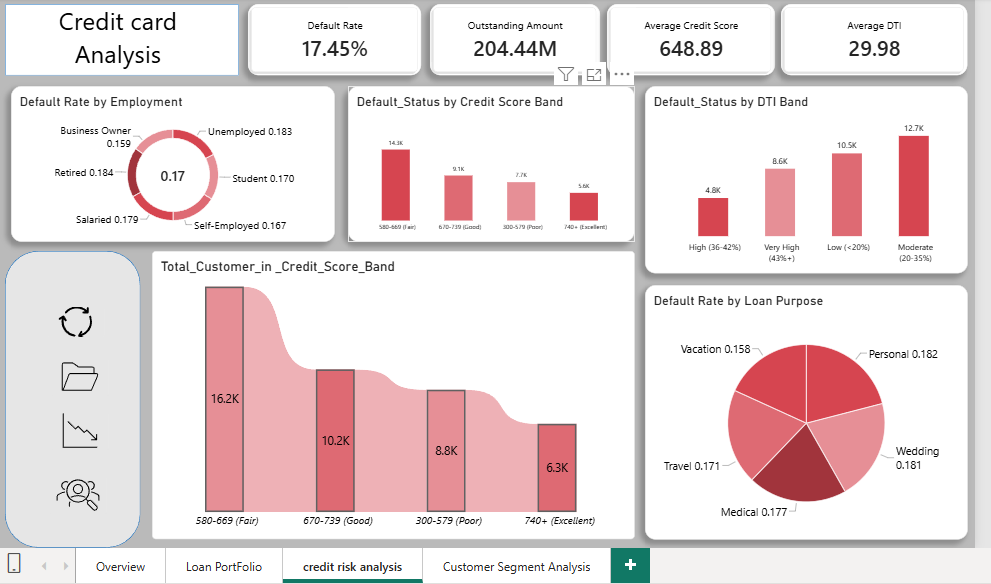

The page's visual inventory and layout, read from the dashboard file:
{"tool":"powerbi","page":{"name":"credit risk analysis","canvas":[1920,1080],"ordinal":2},"visuals":[{"type":"cardVisual","fields":{"Data":["Fact_Loans.Default Rate"]},"box":[493.3,12.8,340.2,140.3],"z":0},{"type":"shape","box":[14.9,497.4,265.8,582.6],"z":0,"group":"g1"},{"type":"cardVisual","fields":{"Data":["Fact_Loans.Outstanding Amount"]},"box":[850.5,12.8,333.8,140.3],"z":1000},{"type":"actionButton","box":[99.9,606.7,110.6,59.2],"z":1000,"group":"g1"},{"type":"cardVisual","fields":{"Data":["Fact_Loans.Average Credit Score"]},"box":[1197.1,12.8,329.6,140.3],"z":2000},{"type":"actionButton","box":[106.6,706.7,110.6,73.5],"z":2000,"group":"g1"},{"type":"cardVisual","fields":{"Data":["Fact_Loans.Average DTI"]},"box":[1539.4,12.8,365.7,140.3],"z":3000},{"type":"actionButton","box":[106.6,813.1,110.6,73.5],"z":3000,"group":"g1"},{"type":"clusteredColumnChart","title":"Default_Status by Credit Score Band","fields":{"Category":["Dim_Loans.Credit_Score_Band"],"Y":["CountNonNull(Fact_Loans.Default_Status)"]},"box":[688.9,172.2,563.5,306.2],"z":4000},{"type":"actionButton","box":[102.3,938.3,110.6,73.5],"z":4000,"group":"g1"},{"type":"columnChart","title":" Default_Status by DTI Band","fields":{"Category":["Dim_Loans.DTI_Band"],"Y":["CountNonNull(Fact_Loans.Default_Status)"]},"box":[1271.5,172.2,633.6,367.8],"z":5000},{"type":"donutChart","title":"Default Rate by Employment","fields":{"Category":["Fact_Loans.Employment"],"Y":["Fact_Loans.Default Rate"]},"box":[27.6,172.2,635.7,306.2],"z":6000},{"type":"pieChart","title":"Default Rate by Loan Purpose","fields":{"Category":["Fact_Loans.Loan_Purpose"],"Y":["Fact_Loans.Default Rate"]},"box":[1271.5,563.5,633.6,499.7],"z":7000},{"type":"ribbonChart","title":"Total_Customer_in _Credit_Score_Band","fields":{"Category":["Dim_Loans.Credit_Score_Band"],"Y":["CountNonNull(Dim_Loans.Credit_Score_Band)"]},"box":[304.1,497.5,948.3,565.6],"z":8000},{"type":"shape","box":[14.9,12.8,459.3,140.3],"z":9000},{"type":"textbox","box":[64.8,11.8,345.6,141.4],"z":10000},{"type":"group","id":"g1","title":"Group 2","box":[14.9,497.4,265.8,582.6],"z":10001}]}

Visuals, with their boxes in screenshot pixels (x1, y1, x2, y2):
cardVisual - Fact_Loans.Default Rate: <box>246,1,419,73</box>
shape: <box>2,248,138,545</box>
cardVisual - Fact_Loans.Outstanding Amount: <box>428,1,598,73</box>
actionButton: <box>46,304,102,334</box>
cardVisual - Fact_Loans.Average Credit Score: <box>604,1,772,73</box>
actionButton: <box>49,355,105,392</box>
cardVisual - Fact_Loans.Average DTI: <box>778,1,965,73</box>
actionButton: <box>49,409,105,446</box>
"Default_Status by Credit Score Band" clusteredColumnChart: <box>345,82,632,238</box>
actionButton: <box>47,472,103,510</box>
" Default_Status by DTI Band" columnChart: <box>642,82,965,270</box>
"Default Rate by Employment" donutChart: <box>9,82,332,238</box>
"Default Rate by Loan Purpose" pieChart: <box>642,282,965,536</box>
"Total_Customer_in _Credit_Score_Band" ribbonChart: <box>150,248,632,536</box>
shape: <box>2,1,236,73</box>
textbox: <box>28,1,204,73</box>
"Group 2" group: <box>2,248,138,545</box>
